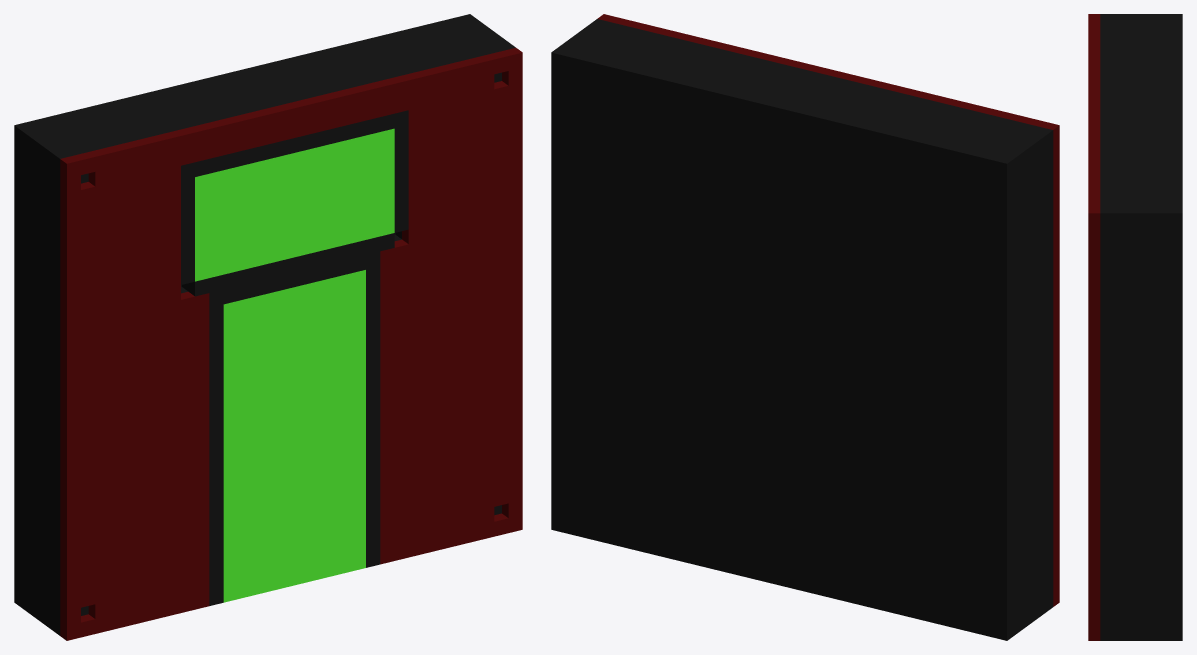
File: lv02-floor-pipe.obj
3 views of the same model, side by side, from view 1: azimuth 30°, elevation 25°; view 2: azimuth 150°, elevation 25°; view 3: azimuth 270°, elevation 25° (orthographic). The views are drawn at different scales.
Parts seen in each view (by area): view 1: Object.1; view 2: Object.1; view 3: Object.1.
Boxes of the visible parts, x1,y1,x2,y2 form: Object.1: (14, 14, 522, 640); Object.1: (551, 14, 1059, 640); Object.1: (1088, 14, 1182, 640).
Size of the model in its own units: 0.9996 by 0.9996 by 0.2.
1 material, 1 textured.
